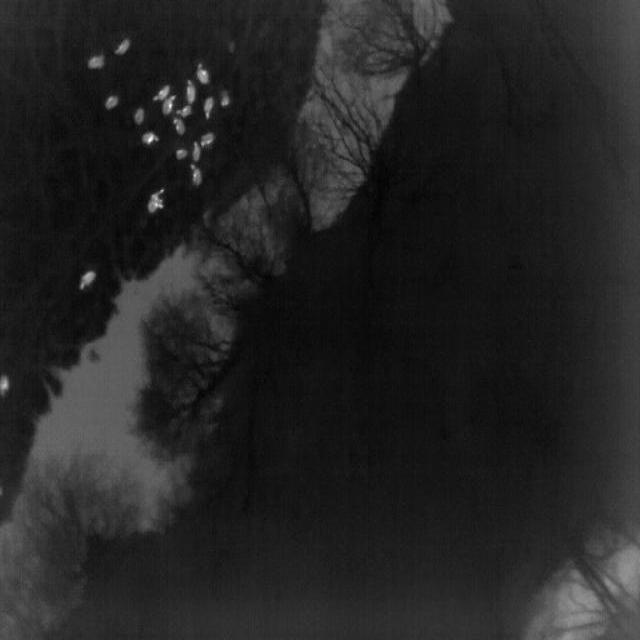deer: (148, 189, 165, 213), (79, 271, 96, 290), (152, 86, 170, 102), (114, 38, 130, 56), (190, 165, 202, 188), (185, 79, 196, 104), (197, 63, 210, 84), (162, 96, 176, 115), (203, 97, 214, 119), (200, 133, 216, 148), (88, 55, 104, 70), (173, 118, 186, 136), (141, 132, 159, 144), (176, 105, 192, 118), (0, 373, 9, 396), (192, 142, 202, 162), (105, 96, 119, 110), (220, 89, 230, 107), (134, 108, 144, 124), (176, 149, 188, 160)
